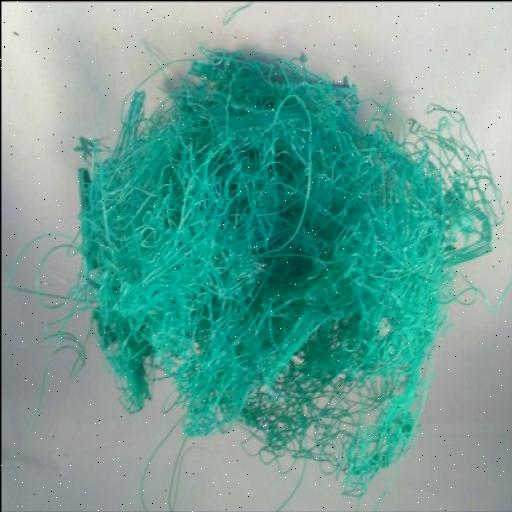spaghetti: (46, 42, 492, 494)
